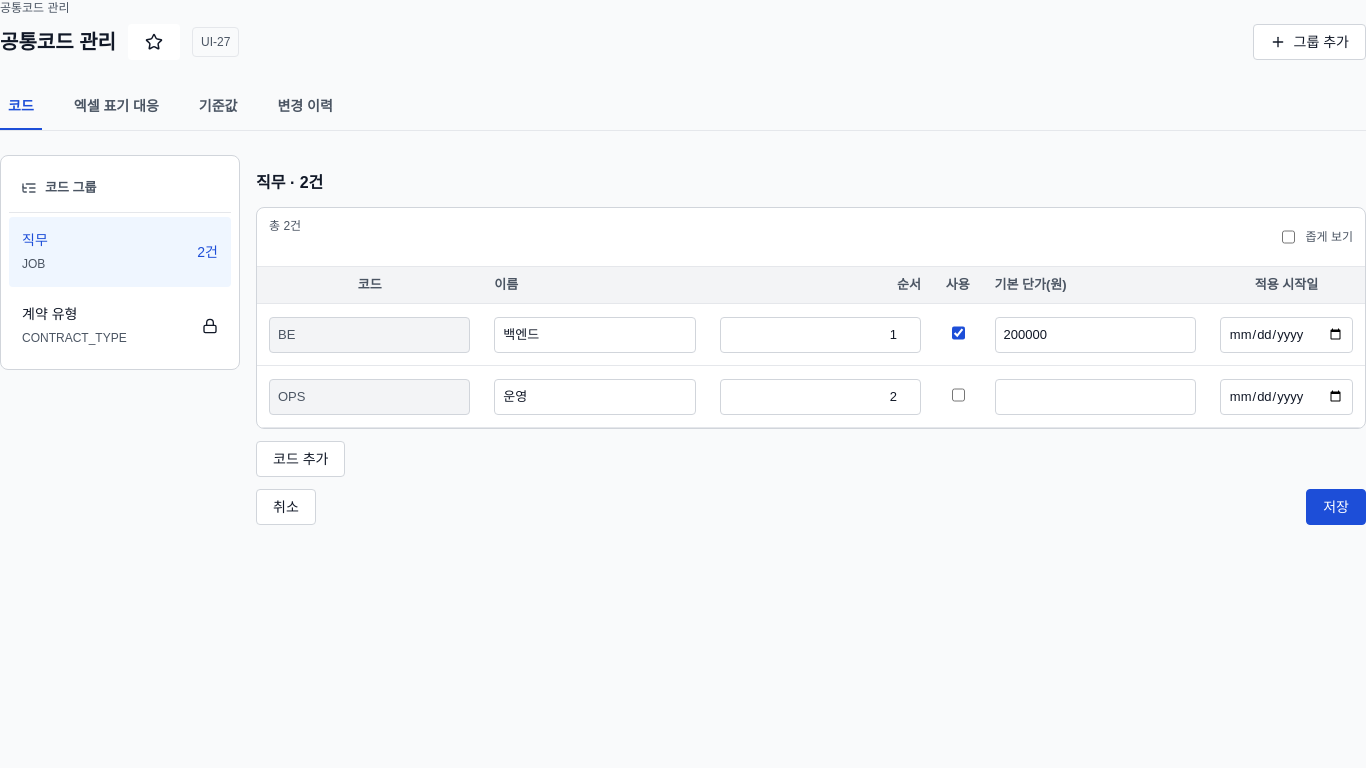
Test: UI-27 code contract › dirty group switch continue retains data, leave discards only this draft
This screenshot has width=1366, height=768.
Replace the text in the field named "이름 1" with "작성 중" at (595, 334), box [494,316,696,352]
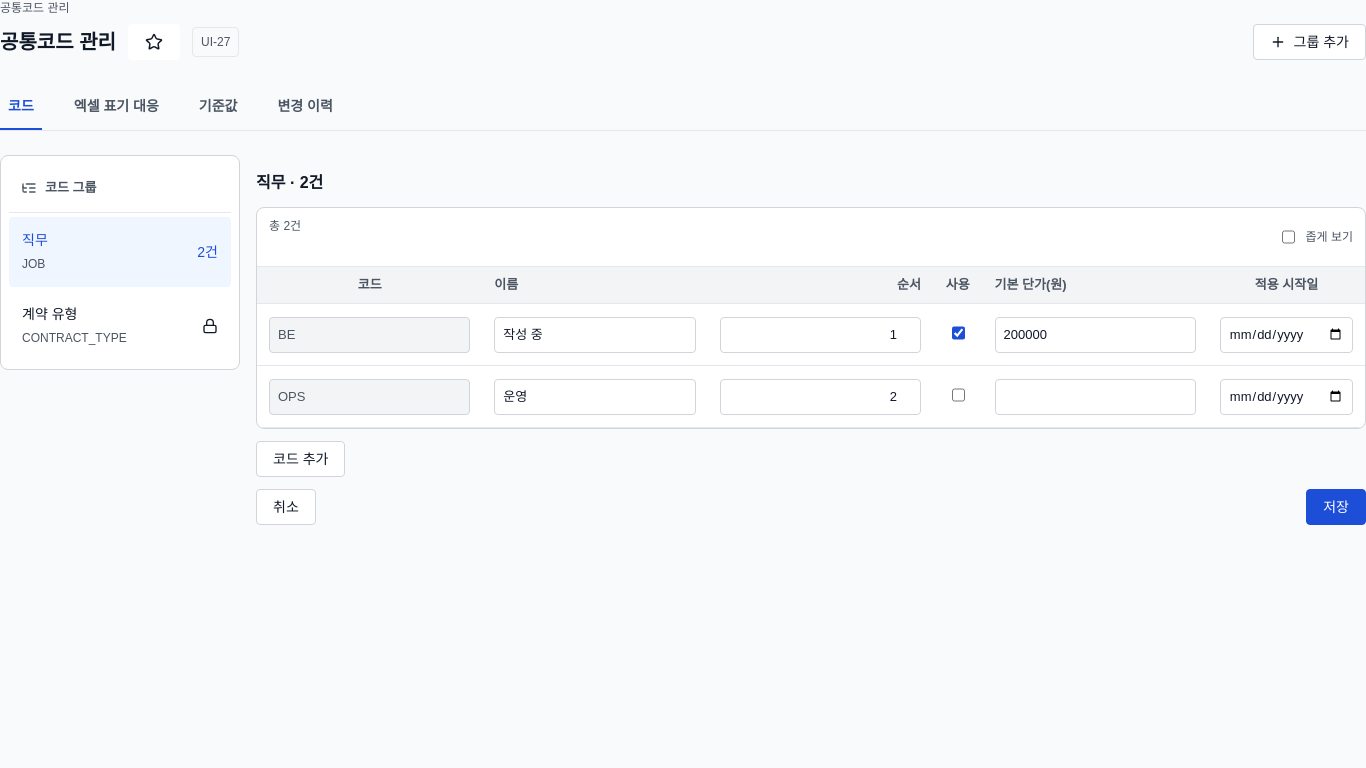
Click the button "계약 유형 CONTRACT_TYPE".
click(120, 326)  # box [9,291,231,361]
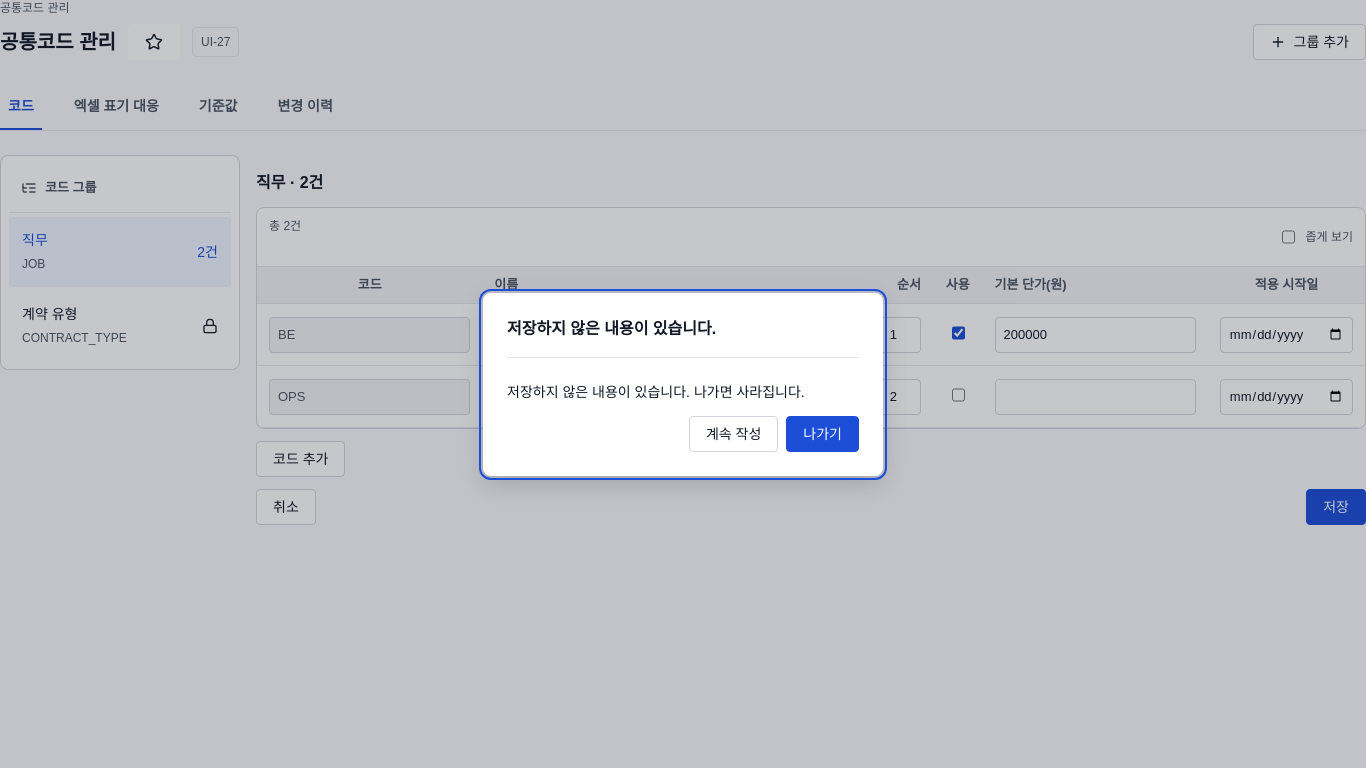
Click the button "계속 작성".
click(734, 434)  # box [689,416,778,452]
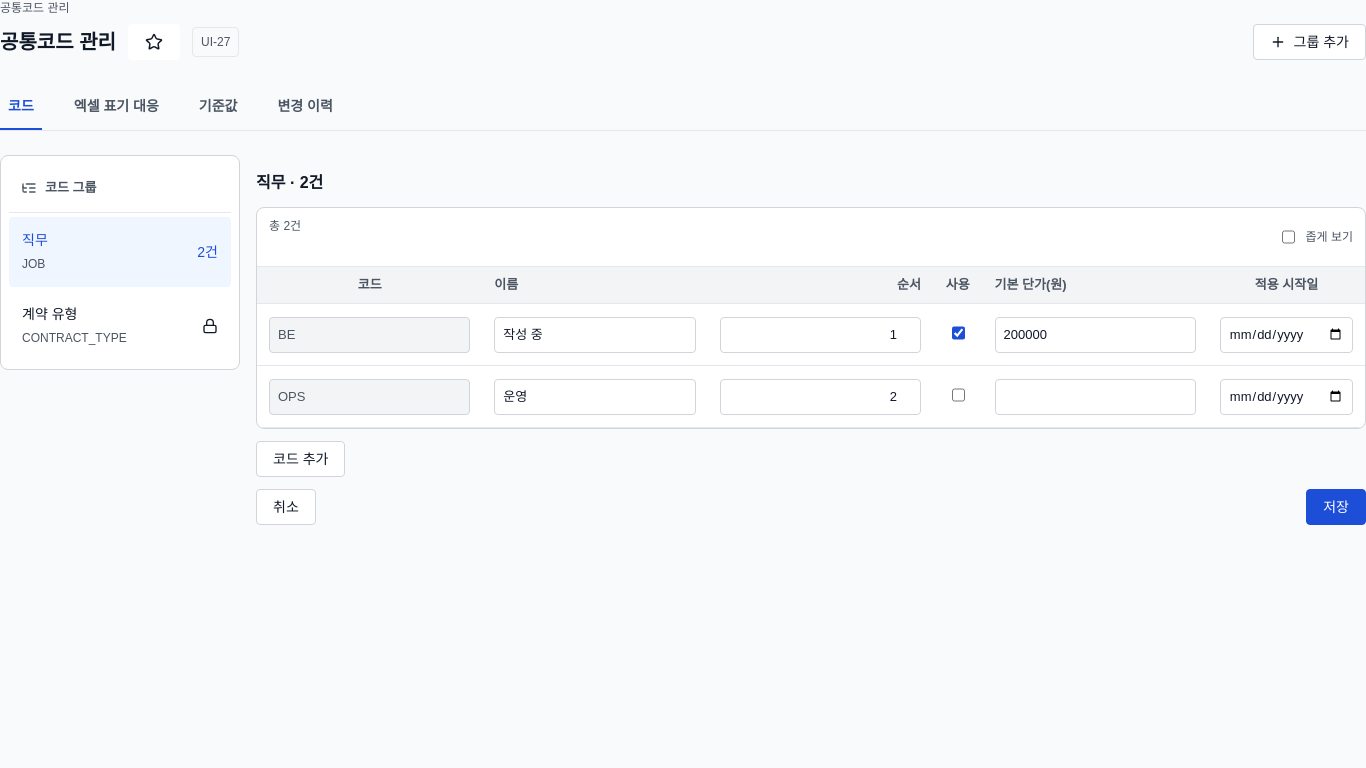
Click the button "계약 유형 CONTRACT_TYPE".
click(120, 326)  # box [9,291,231,361]
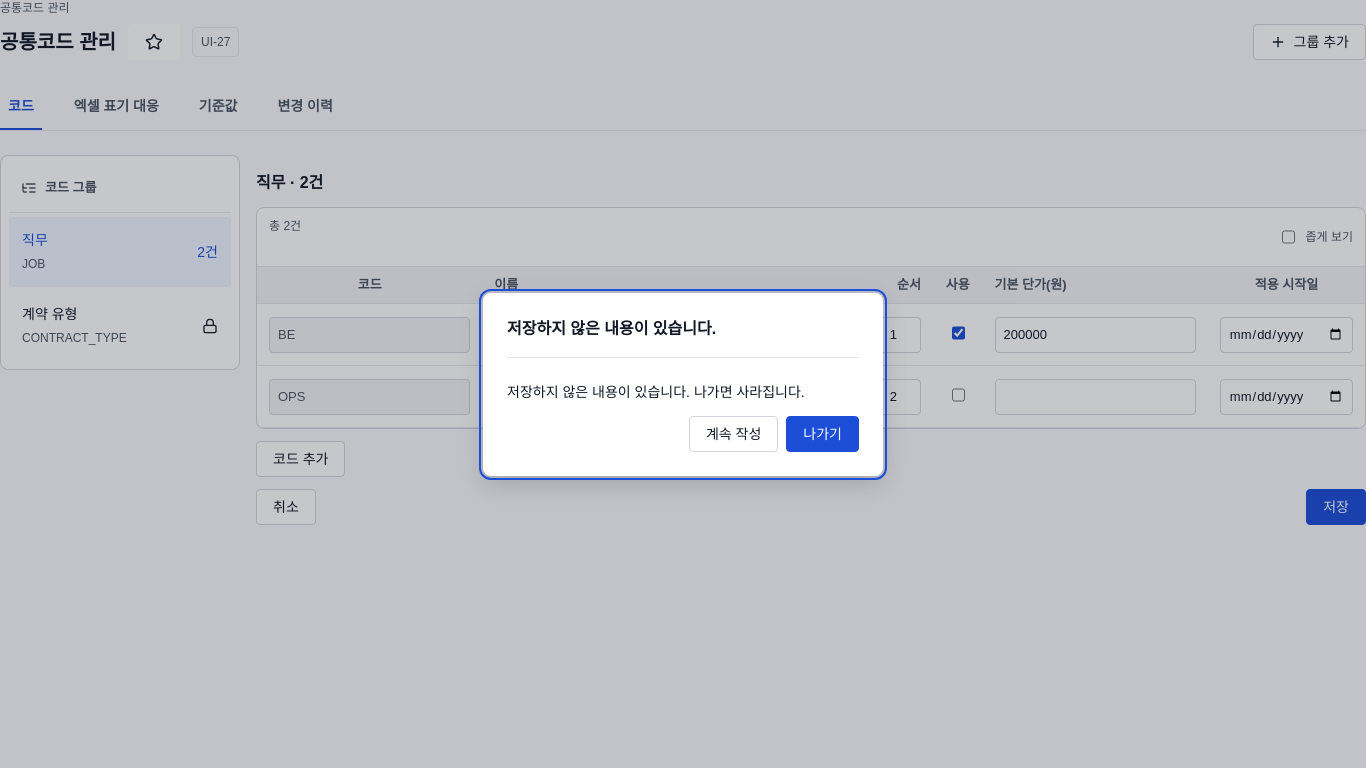
Click the button "나가기".
click(823, 434)  # box [786,416,859,452]
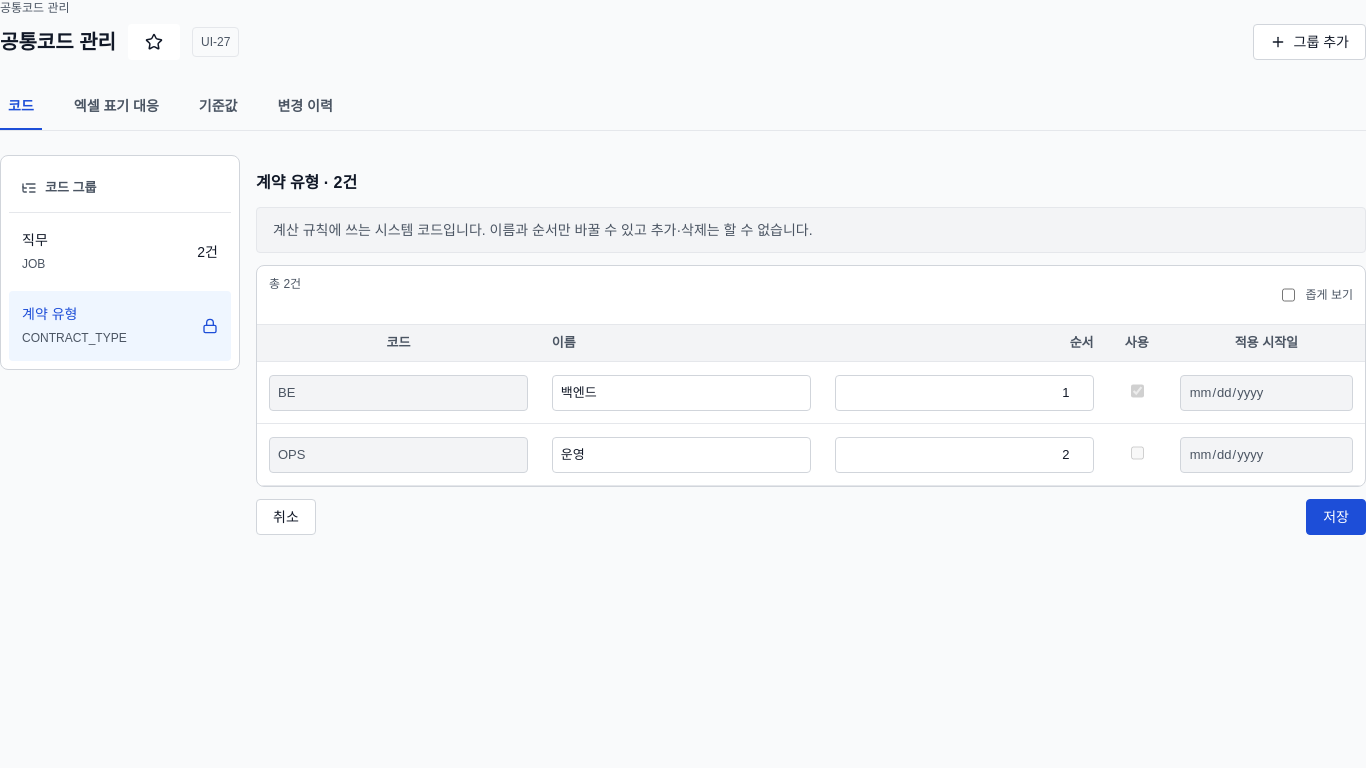
Check: the text "계산 규칙에 쓰는 시스템 코드입니다. 이름과 순서만 바꿀 수 있고 추가·삭제는 할 수 없습니다." is shown, box [256,207,1365,253]
Check: the field named "이름 1" holds "백엔드", box [552,374,811,410]
